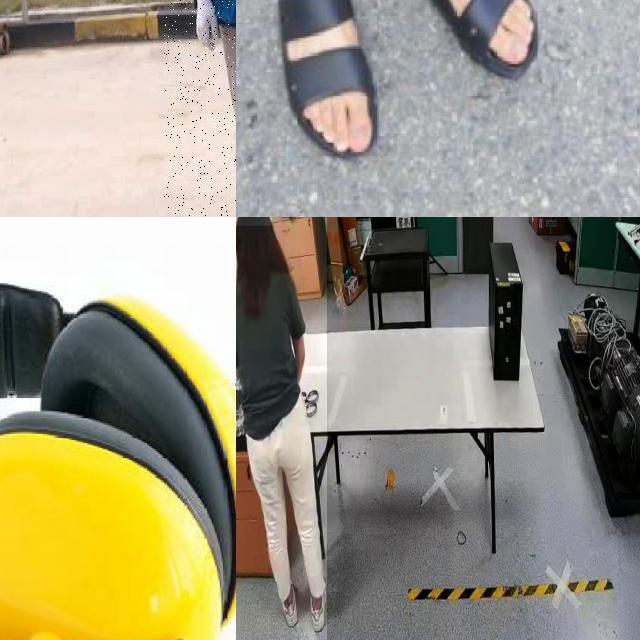Ear-protection: (0, 274, 236, 640)
Sandals: (275, 0, 379, 158), (386, 0, 540, 81)
head_nohelmet: (236, 217, 272, 226)
person: (236, 217, 327, 640), (164, 0, 236, 217)
shoes: (308, 570, 330, 634), (277, 574, 299, 628)
